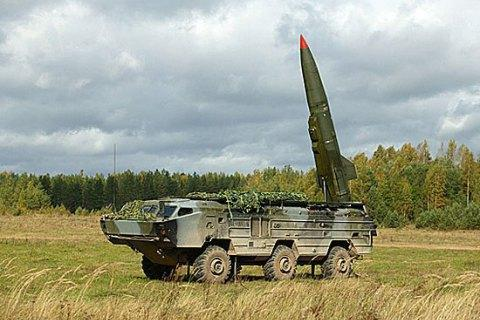rszo: (97, 160, 382, 288)
